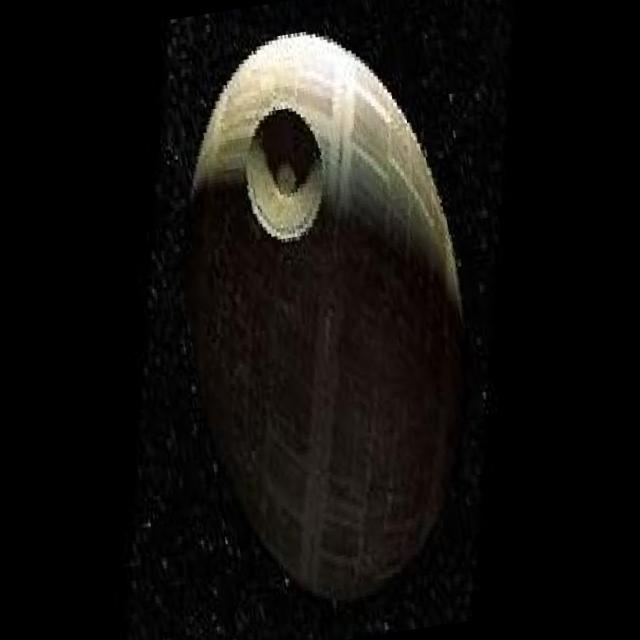Death Star: (136, 10, 524, 607)
